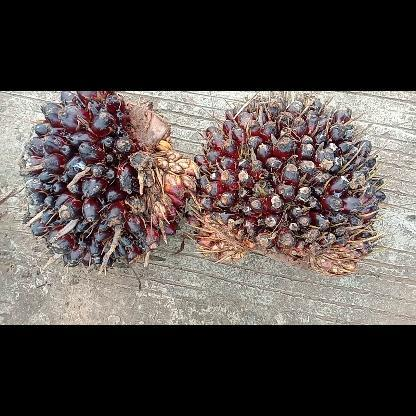TBS mentah: (183, 92, 389, 276), (17, 90, 202, 272)
